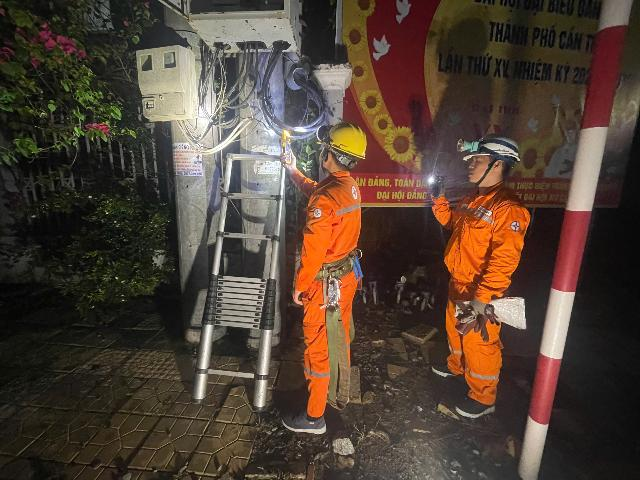gloves: (453, 297, 497, 339), (417, 169, 447, 204)
helmet: (312, 118, 373, 163), (464, 126, 525, 164)
shoes: (278, 402, 336, 438), (456, 390, 504, 421), (428, 356, 477, 386), (318, 384, 356, 406)
